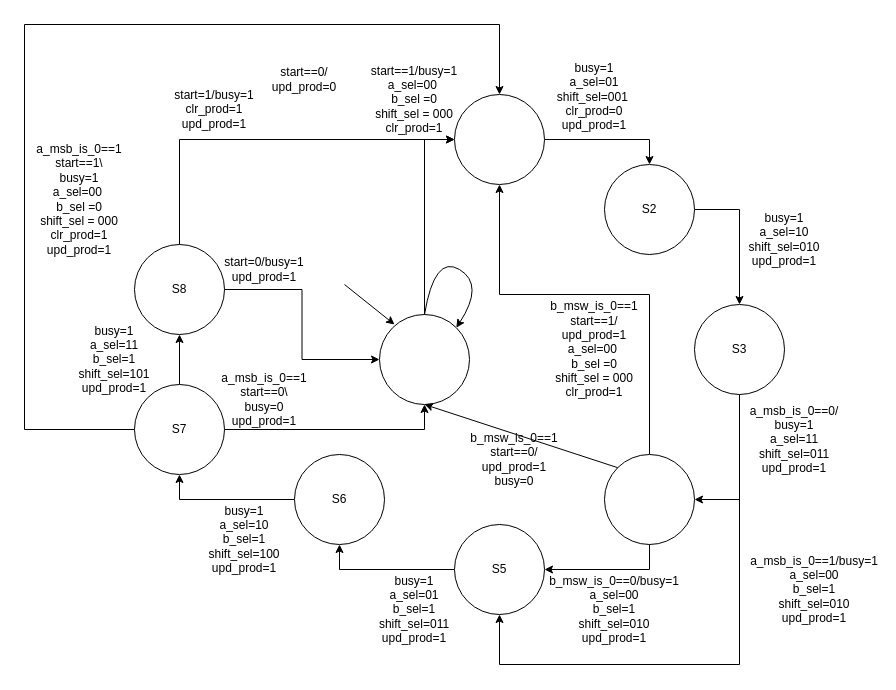
Image size: 896x690. Some labels were removed from this diagram. The shapes that lost their labels are listed below. From the top down, each one's box as (x1, y1, x2, y2) in pixels, then its label:
(454, 94, 544, 184): S1
(378, 314, 470, 404): IDLE
(604, 454, 694, 544): S4
